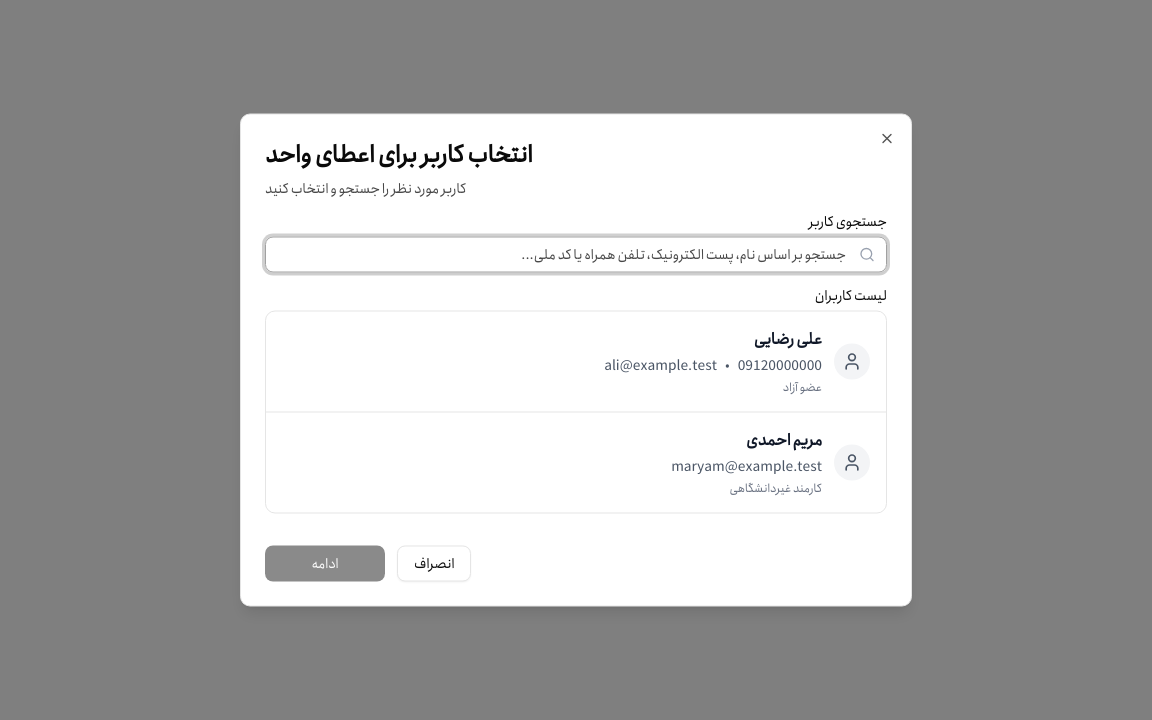
Test: UserSelectDialog › renders returned users and filters them from the search form
Check: the text "علی رضایی" is shown, box [754,326,822,352]
Check: the text "مریم احمدی" is shown, box [746,428,822,452]
Type "مریم" into the field labelled "جستجوی کاربر" at (576,254), box [265,236,887,272]
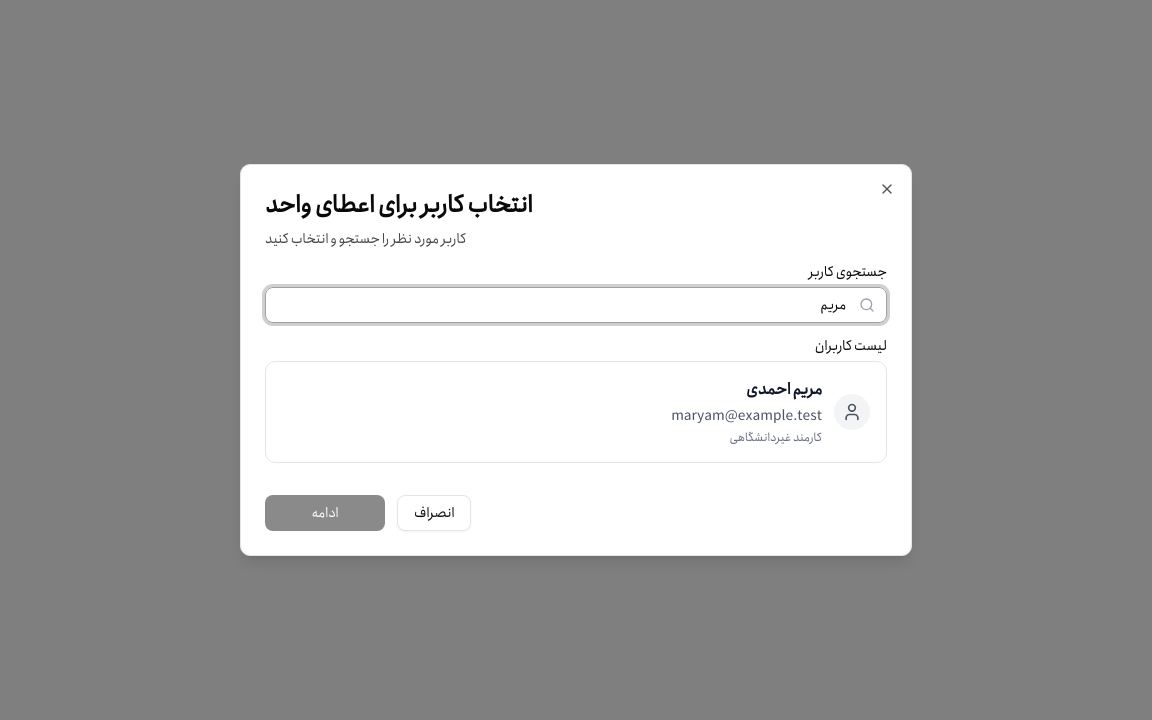
Check: the text "مریم احمدی" is shown, box [746,377,822,402]
Check: the button "علی رضایی" is gone
